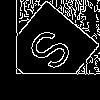S: (25, 25, 83, 81)
